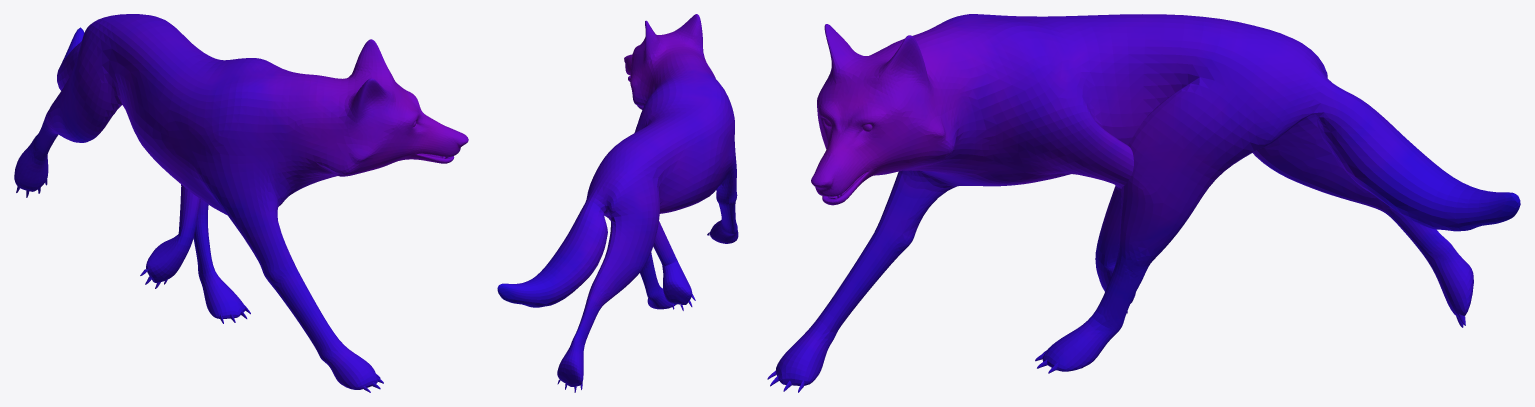
The model's file is pred.glb.
3 views of the same model, side by side, from view 1: azimuth 30°, elevation 25°; view 2: azimuth 150°, elevation 25°; view 3: azimuth 270°, elevation 25° (orthographic). The views are drawn at different scales.
Size of the model in its own units: 0.2773 by 0.3699 by 0.6638.
